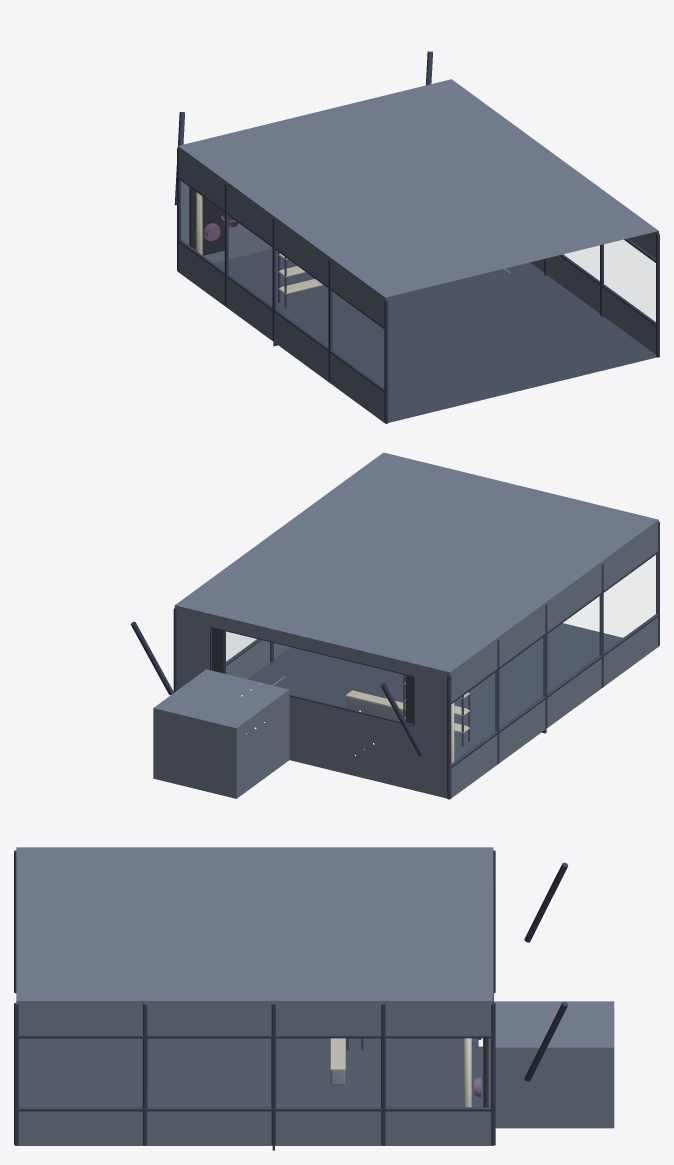
The model's file is depot.glb.
The picture shows the model from 3 angles, top to bottom: view 1: azimuth 30°, elevation 25°; view 2: azimuth 150°, elevation 25°; view 3: azimuth 270°, elevation 25°; orthographic projection. The views are drawn at different scales.
Parts seen in each view (by area): view 1: Roof panels - Wall, Floor extension - Floor, Port wall - Wall, Floor - Floor, Port wall - Rib, Starboard wall - Wall, Rear bulkhead - Wall, Starboard wall - Rib, Signature architecture - Dark; view 2: Roof panels - Wall, Rear bulkhead - Wall, Port wall - Wall, Stockroom - Wall, Floor extension - Floor, Store lid - Wall, Floor - Floor, Port wall - Rib, Starboard wall - Wall, Rear bulkhead - Rib, Signature architecture - Dark, Outside the glazing - Rib (+2 smaller); view 3: Roof panels - Wall, Starboard wall - Wall, Floor extension - Floor, Floor - Floor, Stockroom - Wall, Starboard wall - Rib, Store lid - Wall, Outside the glazing - Rib, Port wall - Rib, Signature architecture - Pale, Counter - Pale.
Boxes of the visible parts, x1,y1,x2,y2 form: Roof panels - Wall: [178, 79, 658, 297]; Floor extension - Floor: [309, 275, 656, 422]; Port wall - Wall: [178, 146, 385, 422]; Floor - Floor: [214, 249, 544, 332]; Port wall - Rib: [177, 148, 388, 423]; Starboard wall - Wall: [530, 231, 658, 354]; Rear bulkhead - Wall: [181, 181, 272, 263]; Starboard wall - Rib: [544, 233, 659, 357]; Signature architecture - Dark: [189, 187, 234, 255]; Roof panels - Wall: [175, 452, 658, 672]; Rear bulkhead - Wall: [174, 605, 450, 798]; Port wall - Wall: [450, 520, 658, 798]; Stockroom - Wall: [153, 690, 289, 798]; Floor extension - Floor: [273, 623, 622, 720]; Store lid - Wall: [154, 669, 289, 728]; Floor - Floor: [247, 662, 510, 760]; Port wall - Rib: [447, 521, 659, 799]; Starboard wall - Wall: [226, 640, 290, 678]; Rear bulkhead - Rib: [210, 626, 414, 726]; Signature architecture - Dark: [212, 628, 413, 724]; Outside the glazing - Rib: [130, 621, 423, 755]; Roof panels - Wall: [16, 847, 493, 1000]; Starboard wall - Wall: [16, 1001, 493, 1145]; Floor extension - Floor: [19, 1038, 271, 1107]; Floor - Floor: [276, 1038, 490, 1107]; Stockroom - Wall: [495, 1047, 614, 1128]; Starboard wall - Rib: [14, 1002, 495, 1145]; Store lid - Wall: [494, 1001, 614, 1047]; Outside the glazing - Rib: [524, 862, 568, 1081]; Port wall - Rib: [14, 850, 495, 993]; Signature architecture - Pale: [464, 1038, 471, 1107]; Counter - Pale: [330, 1038, 345, 1070].
Bounding box in the file's own units: 31.75 × 9.65 × 34.14.
